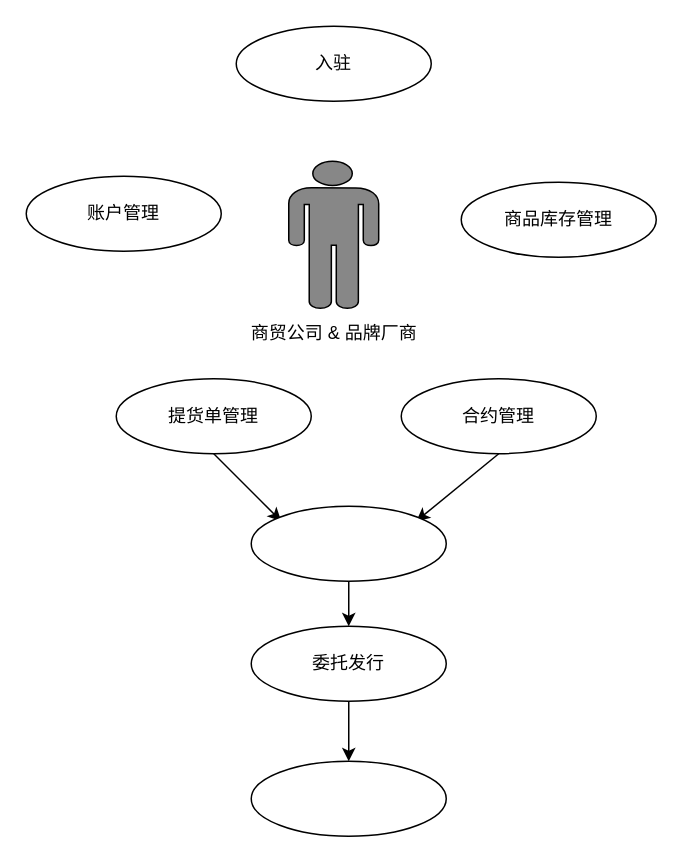
This 683x863 diagram has some shape labels left out. The centre of each missing label's shape, as x and y in pixels:
商品上架: the point at 348,798
申请上链: the point at 348,543
